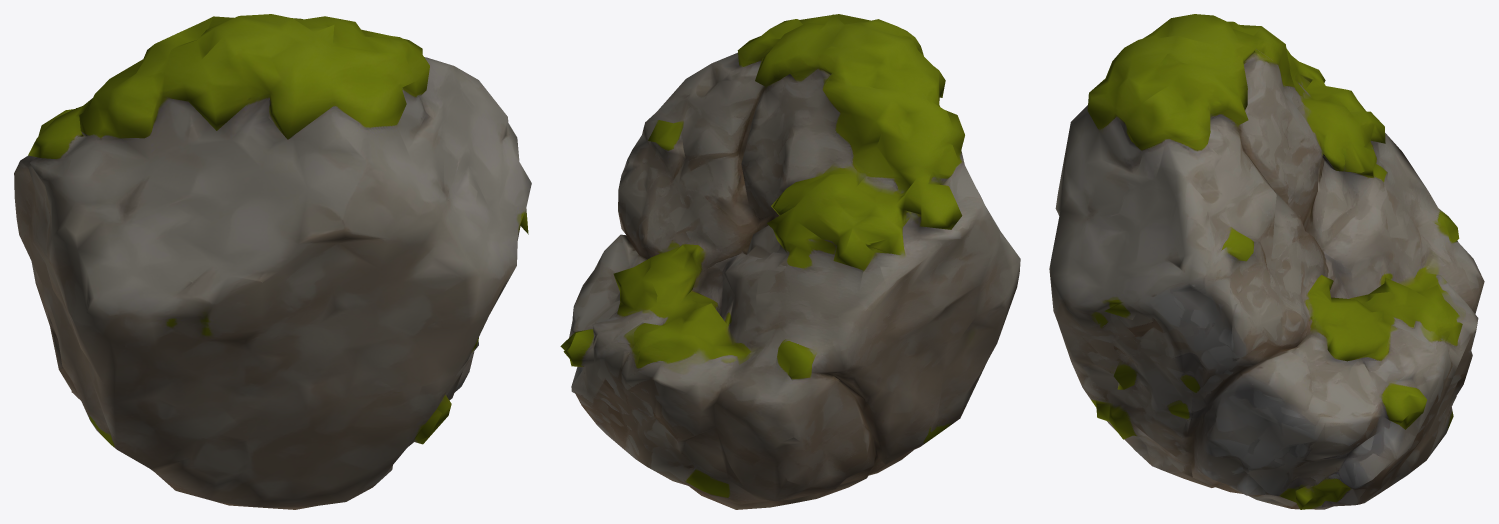
The model's file is boulder.glb.
The picture shows the model from 3 angles, left to right: view 1: azimuth 30°, elevation 25°; view 2: azimuth 150°, elevation 25°; view 3: azimuth 270°, elevation 25°; orthographic projection. The views are drawn at different scales.
Parts seen in each view (by area): view 1: tripo_node_9d1b8638-b859-433b-abc6-ba57aa09a468; view 2: tripo_node_9d1b8638-b859-433b-abc6-ba57aa09a468; view 3: tripo_node_9d1b8638-b859-433b-abc6-ba57aa09a468.
Boxes of the visible parts, x1,y1,x2,y2 form: tripo_node_9d1b8638-b859-433b-abc6-ba57aa09a468: (14, 14, 531, 509); tripo_node_9d1b8638-b859-433b-abc6-ba57aa09a468: (560, 14, 1020, 509); tripo_node_9d1b8638-b859-433b-abc6-ba57aa09a468: (1049, 14, 1484, 509).
Bounding box in the file's own units: 0.4882 × 0.5 × 0.4734.
Materials: 1 (1 with a texture image).
